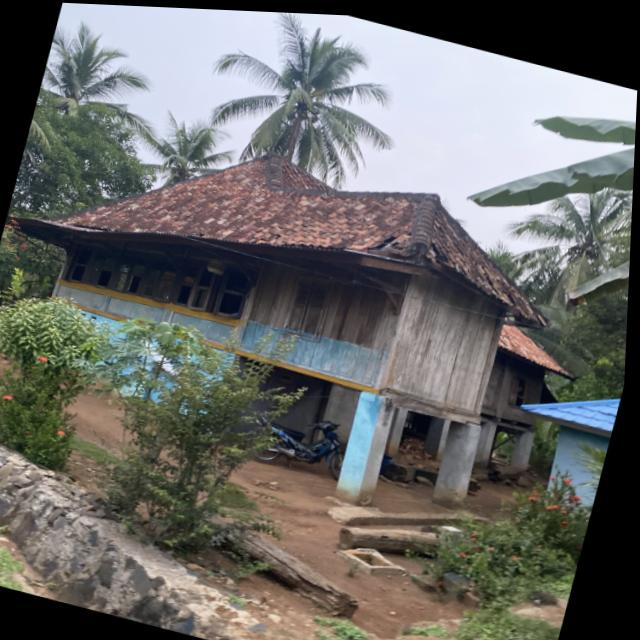Atap: (48, 149, 545, 324), (497, 323, 575, 376)
